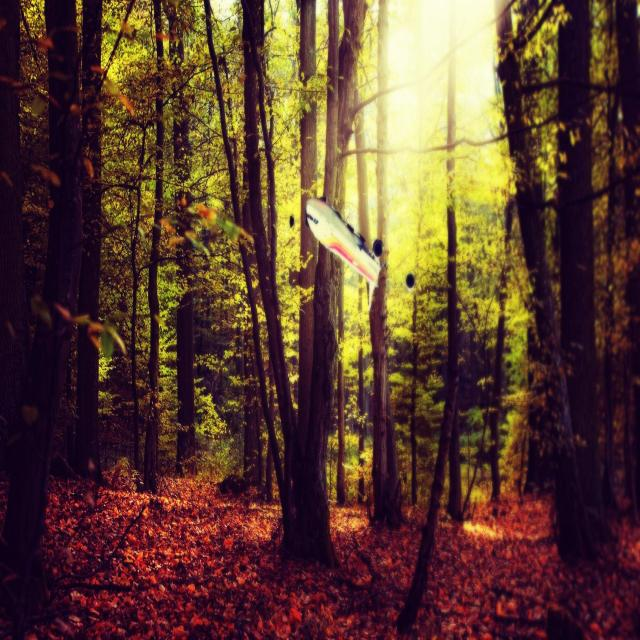airplane: (305, 194, 384, 288)
